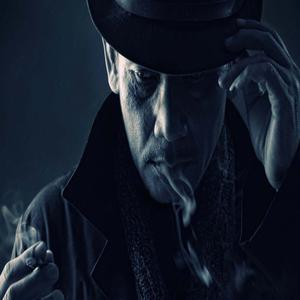cigarette: (24, 255, 47, 270)
